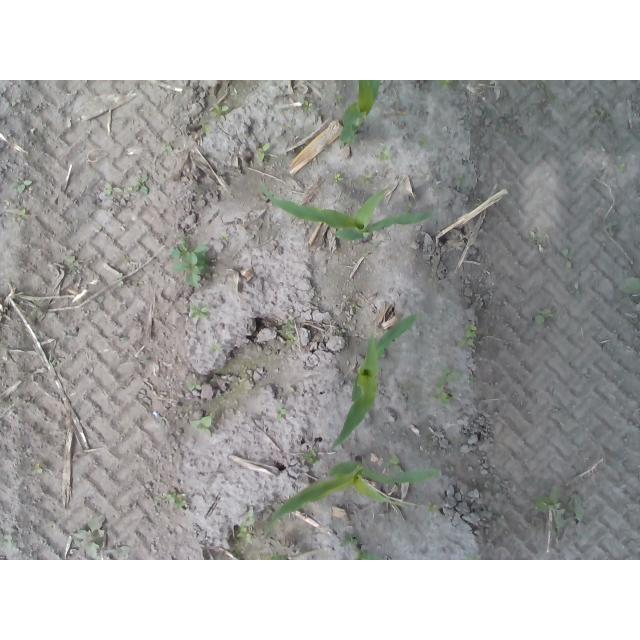Maize: (249, 198, 454, 241)
